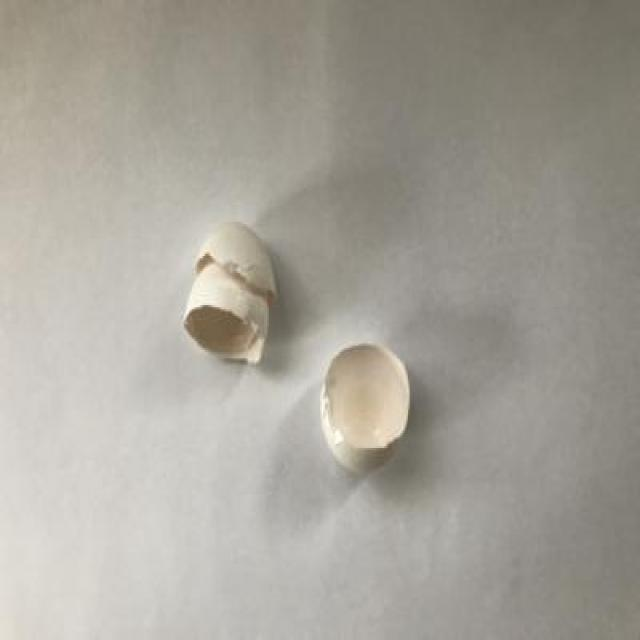compost: (180, 220, 418, 499)
